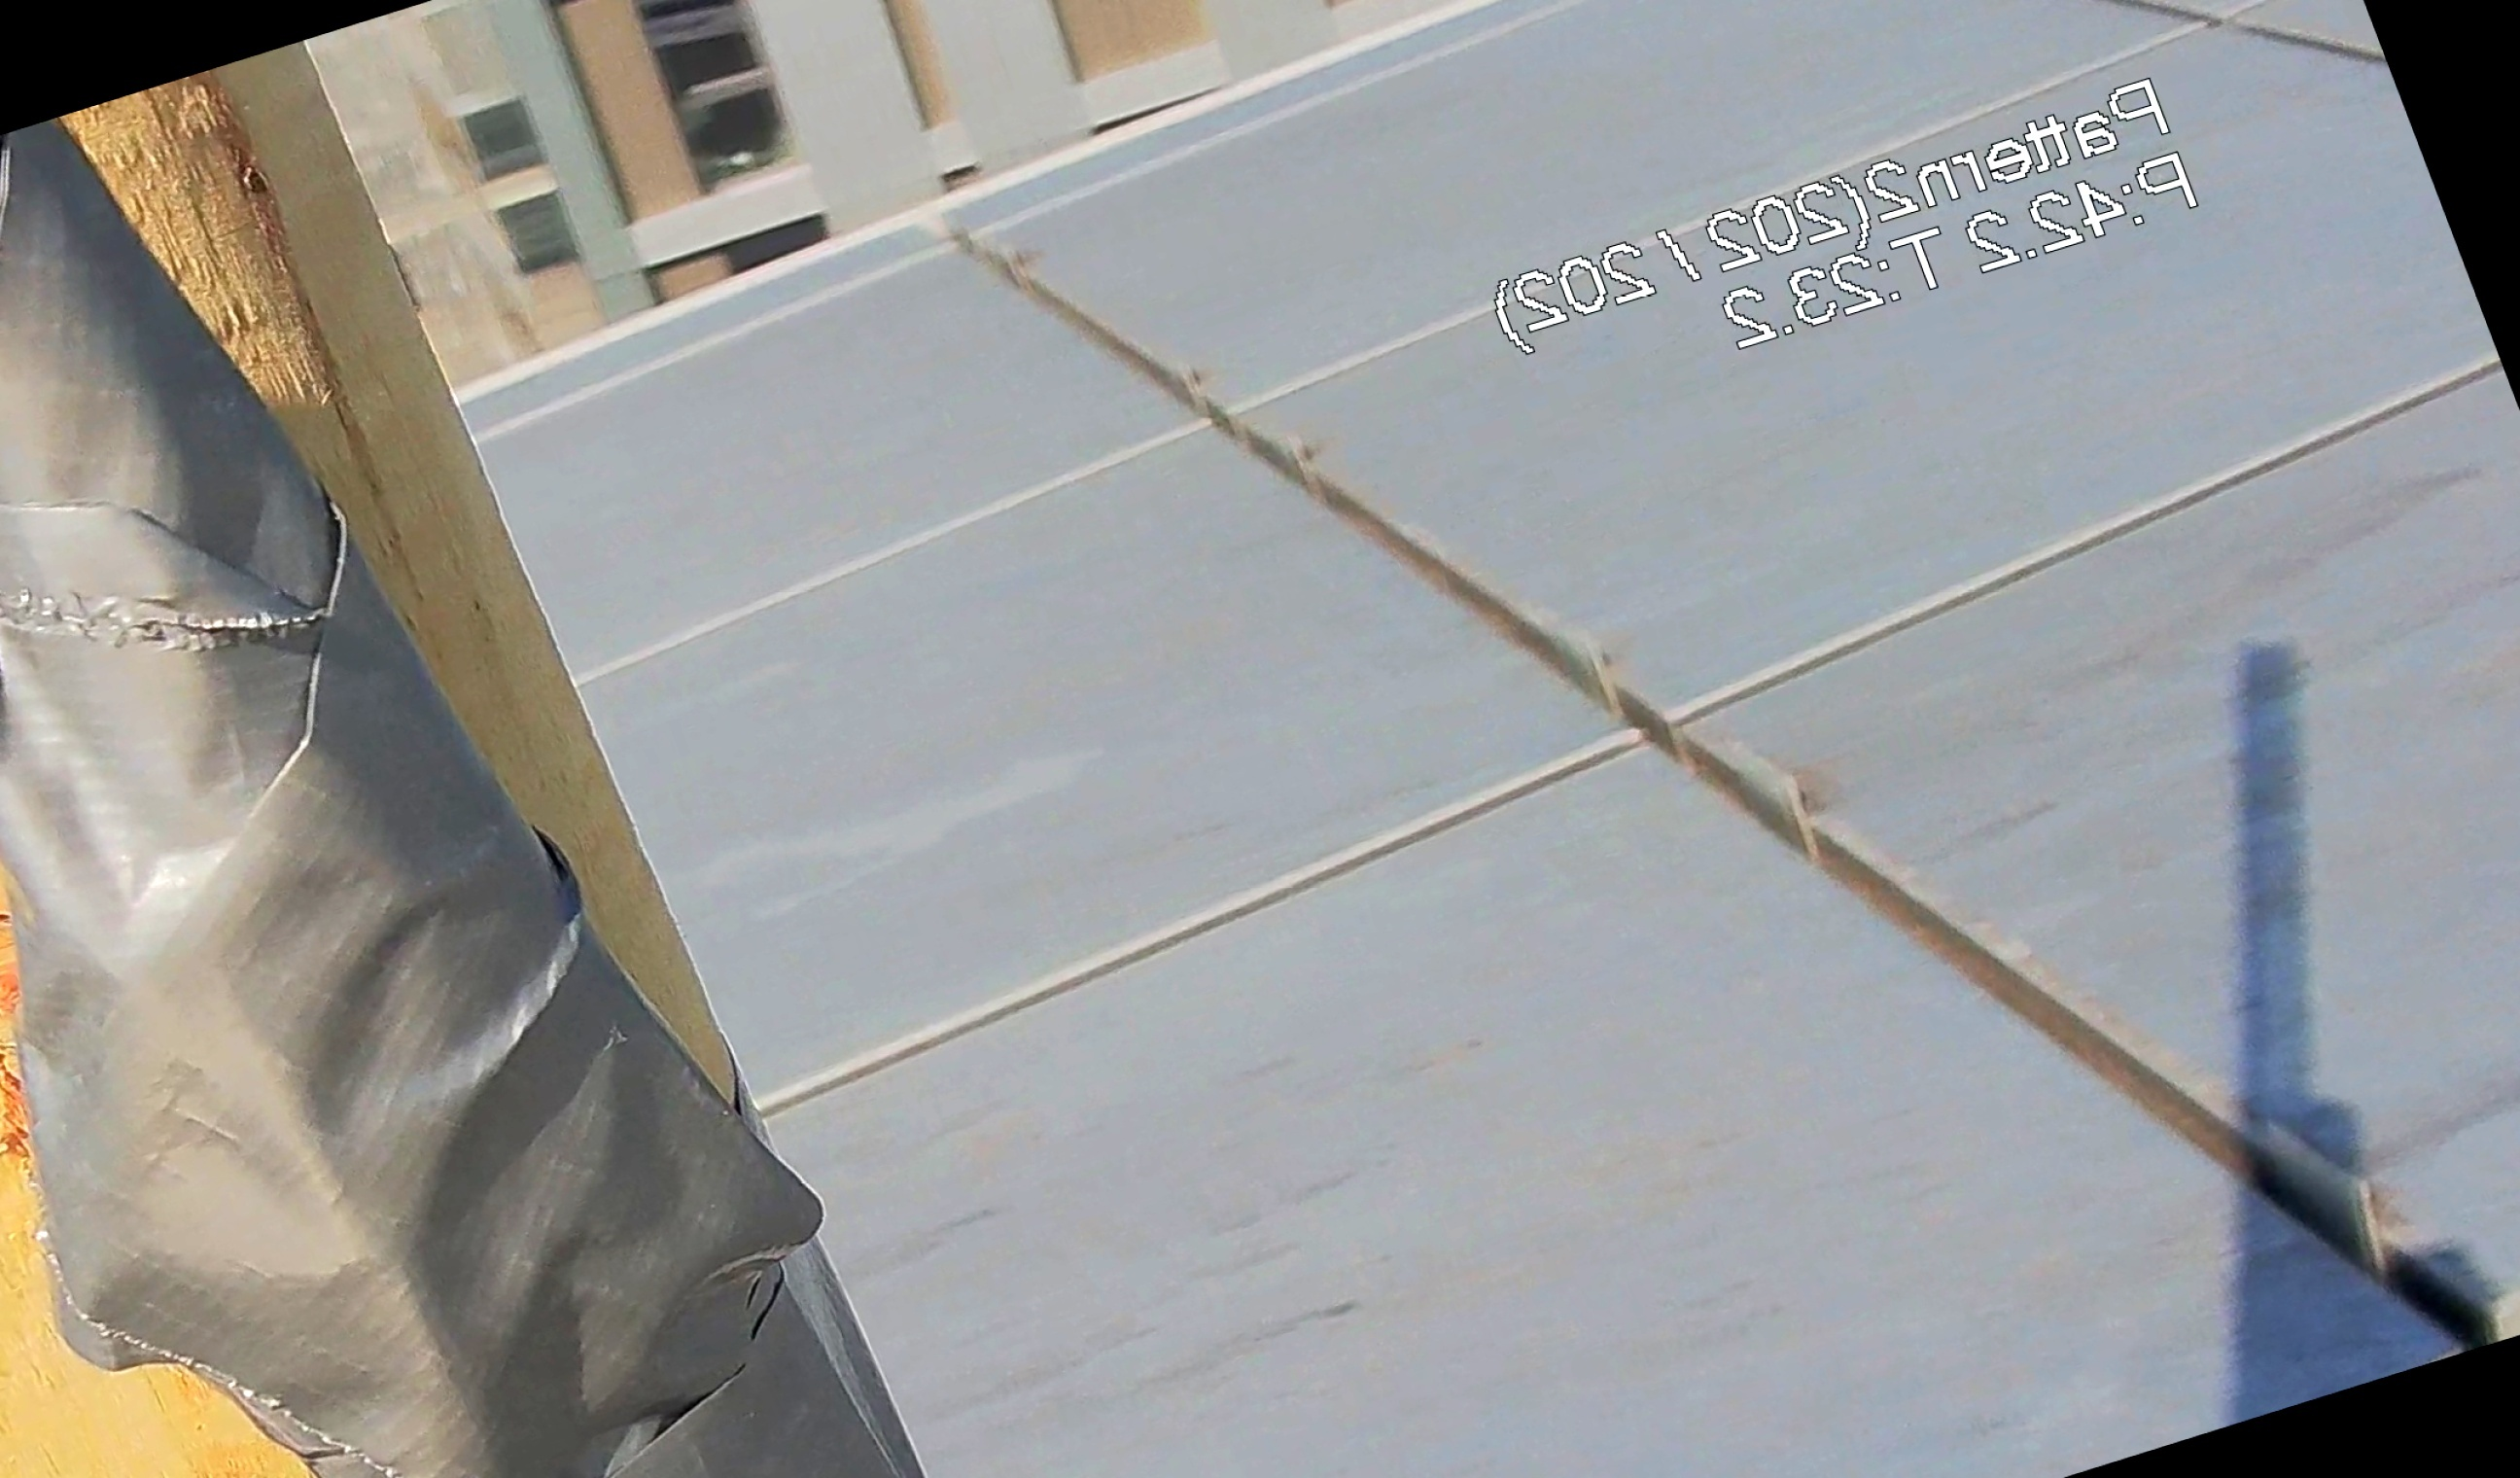Other: (0, 48, 930, 1478)
